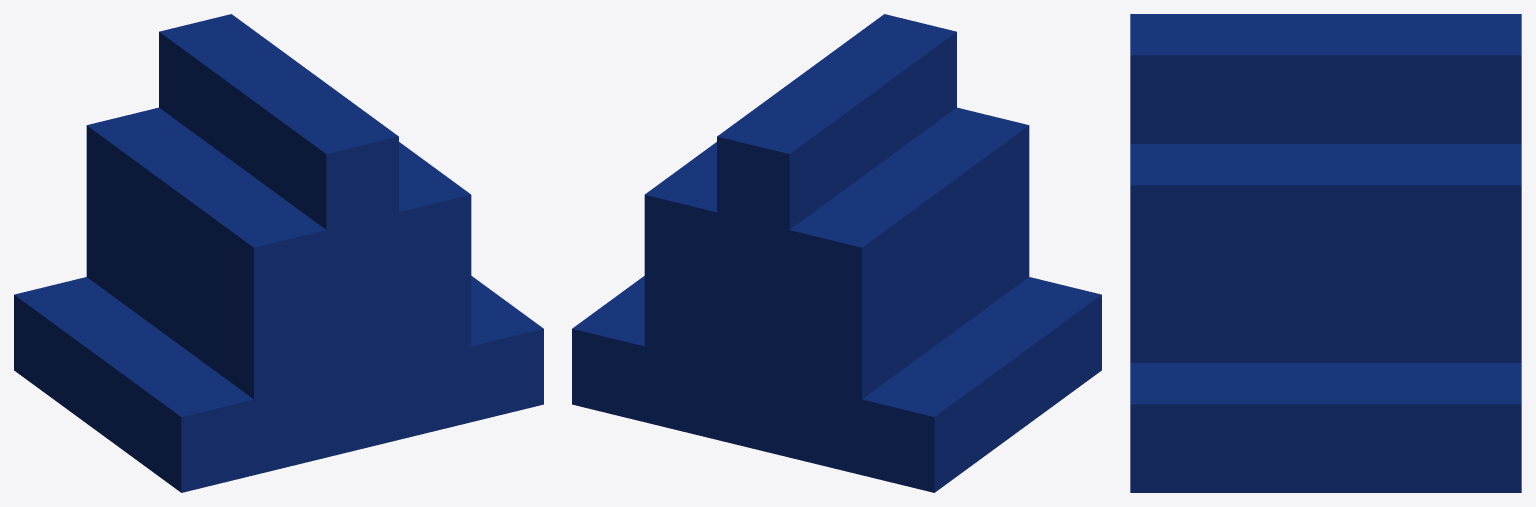
The model's file is colour_gate_blue_req.fbx.
3 views of the same model, side by side, from view 1: azimuth 30°, elevation 25°; view 2: azimuth 150°, elevation 25°; view 3: azimuth 270°, elevation 25° (orthographic). The views are drawn at different scales.
Parts seen in each view (by area): view 1: colour gate blue req; view 2: colour gate blue req; view 3: colour gate blue req.
Part boxes in pixels (x1=…): colour gate blue req: x1=14, y1=14, x2=543, y2=492; colour gate blue req: x1=572, y1=14, x2=1101, y2=492; colour gate blue req: x1=1130, y1=14, x2=1521, y2=492.
Size of the model in its own units: 0.5 by 0.4 by 0.4.
Materials: 1 (1 with a texture image).
